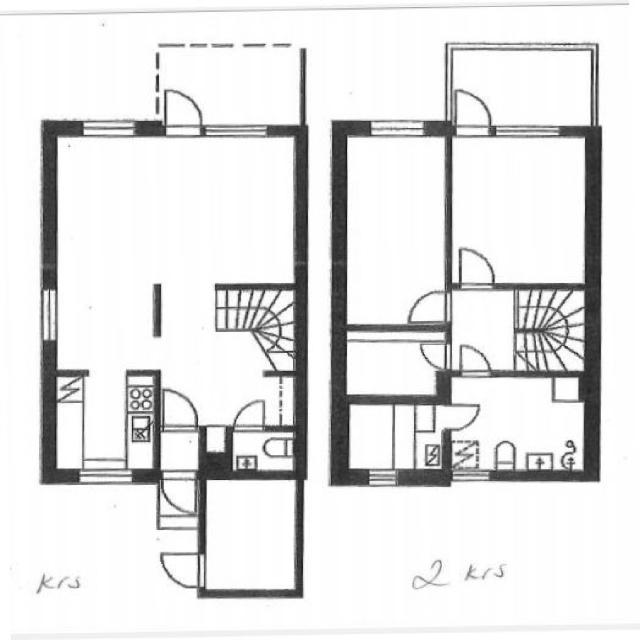door: (154, 544, 207, 594), (159, 85, 206, 137), (452, 243, 500, 291), (449, 85, 494, 136), (400, 285, 452, 328), (156, 468, 200, 518), (157, 386, 200, 432), (435, 400, 483, 436), (456, 340, 495, 378), (229, 396, 269, 432), (414, 337, 451, 374)
window: (34, 272, 63, 351), (72, 113, 143, 143), (362, 115, 432, 144), (198, 118, 275, 144), (69, 464, 143, 489), (489, 120, 568, 142), (362, 466, 404, 492), (446, 466, 498, 486)
zone: (44, 132, 308, 283), (447, 130, 594, 287), (340, 128, 450, 329), (51, 281, 158, 471), (444, 374, 591, 478), (201, 471, 301, 597), (339, 400, 442, 482), (228, 428, 300, 476)
